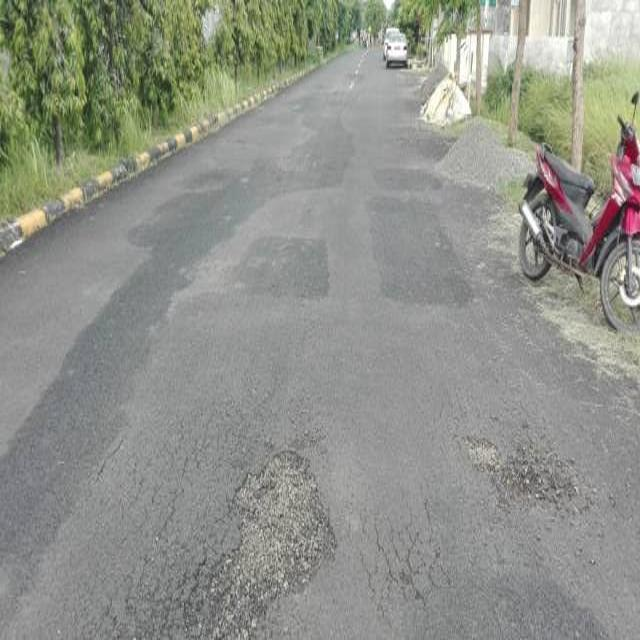Sambungan: (0, 158, 336, 640), (369, 200, 476, 301), (241, 241, 330, 297)
